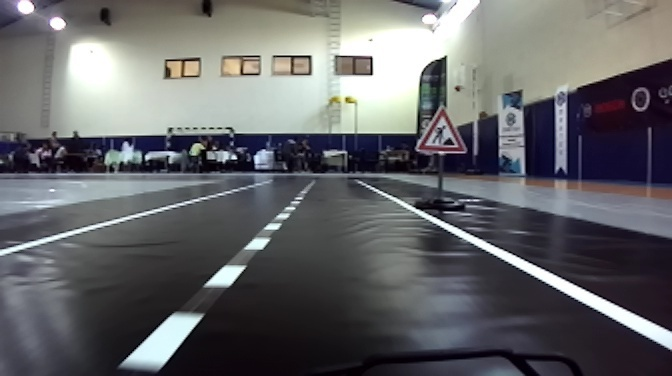yol_yapimi: (413, 101, 472, 160)
